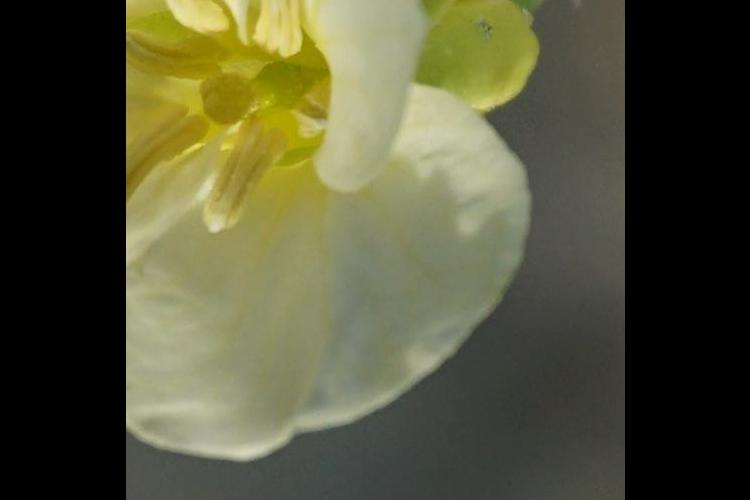white: (127, 1, 539, 459)
